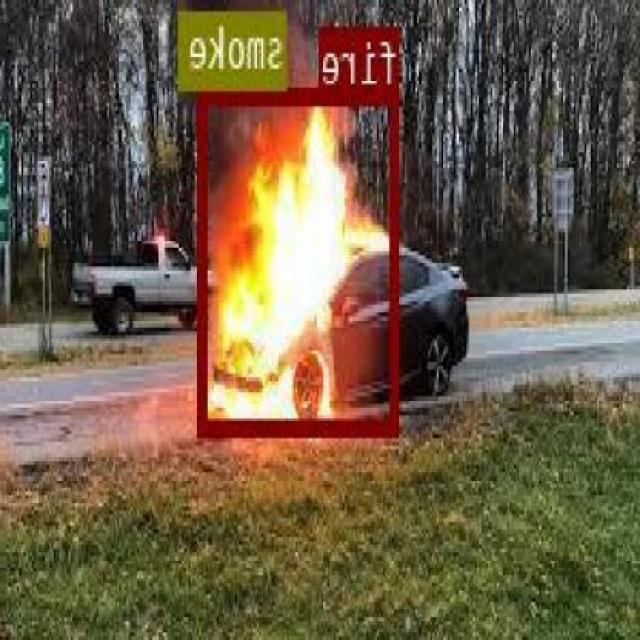fire: (200, 86, 402, 432)
smoke: (182, 8, 290, 87)
